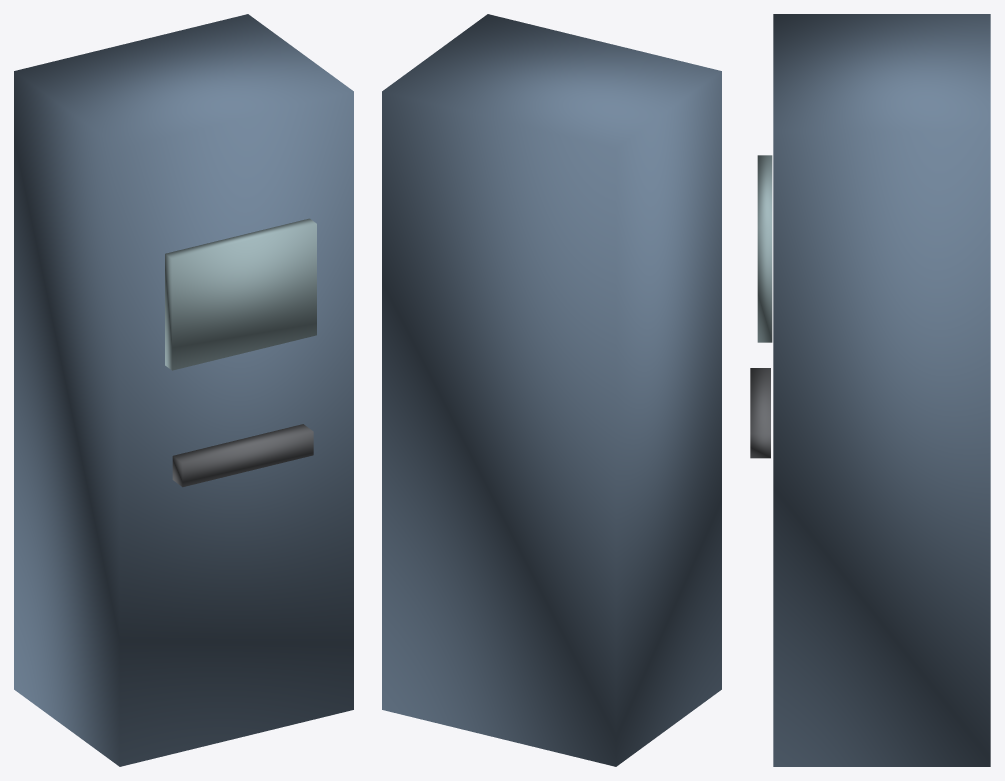
The model's file is information_kiosk__compact.glb.
The picture shows the model from 3 angles, left to right: view 1: azimuth 30°, elevation 25°; view 2: azimuth 150°, elevation 25°; view 3: azimuth 270°, elevation 25°; orthographic projection. The views are drawn at different scales.
Parts seen in each view (by area): view 1: world; view 2: world; view 3: world.
Part boxes in pixels (box(x1,y1,x2,y2)): world: box(14, 14, 353, 766); world: box(382, 14, 721, 766); world: box(750, 14, 990, 766).
Bounding box in the file's own units: 0.5712 × 1.44 × 0.4945.
